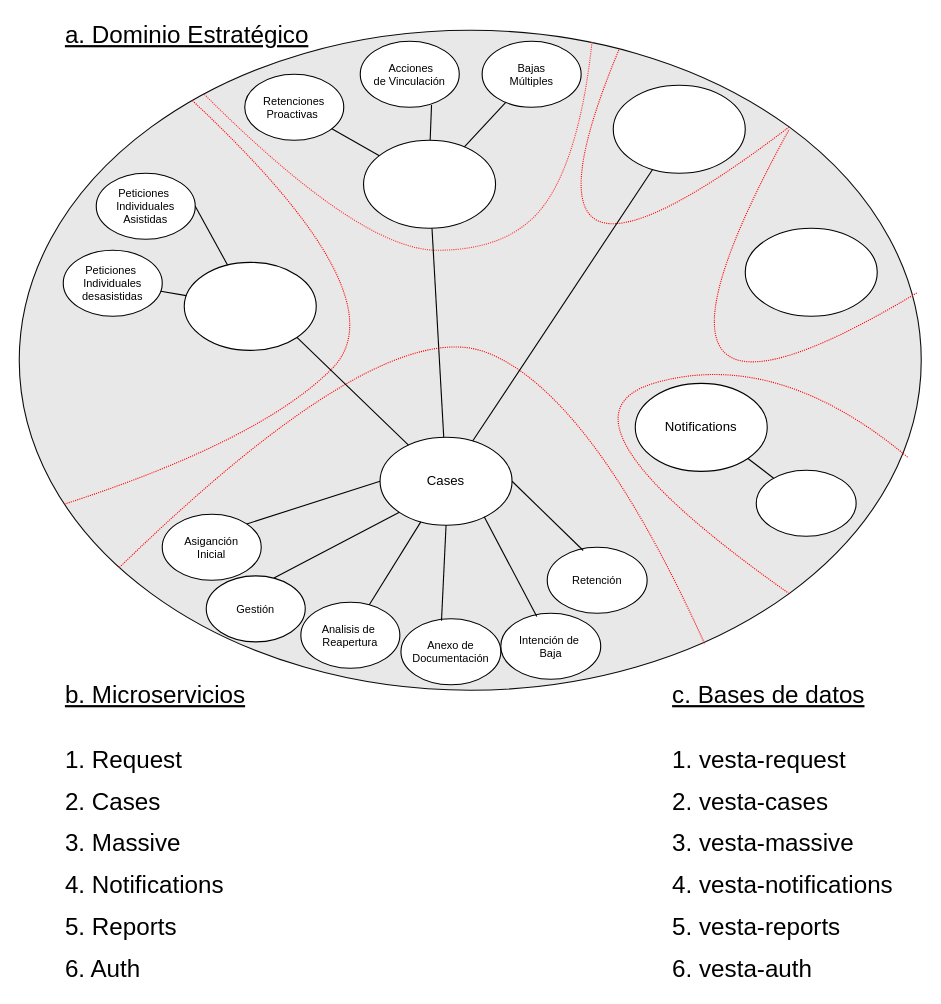
The diagram is 941 pixels wide and 1004 high, and some of its shapes have lost their labels. The shapes that lost their labels are listed below. From the top down, each one's centre as x and y in pixels, then its label:
point (678, 128): Reports
point (429, 183): Massive
point (810, 271): Auth
point (249, 305): Request
point (805, 502): Historico
